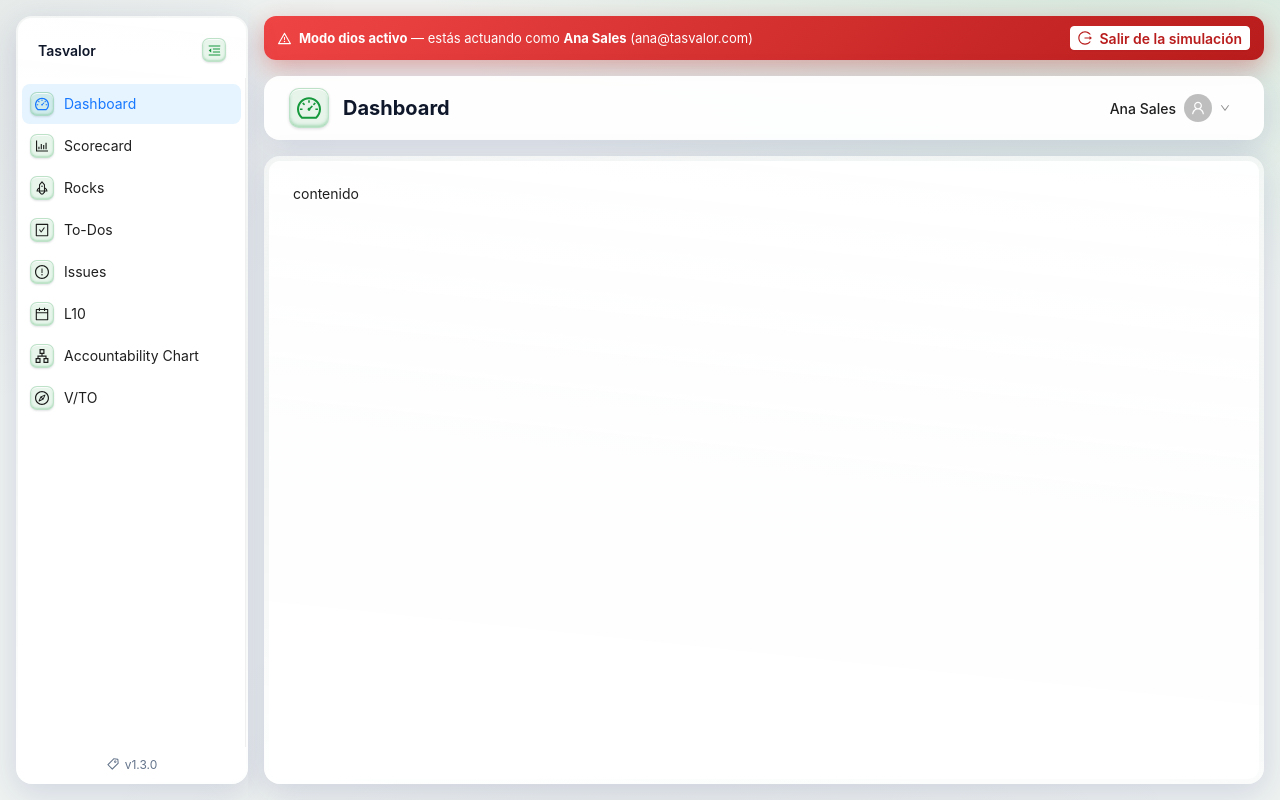
Test case: AppLayout › shows the red banner while impersonating and exits the simulation on click
Expected: the text "Modo dios activo" is shown, [299, 30, 407, 46]
Expected: the text "Ana Sales" next to "— estás actuando como" is shown, [563, 30, 626, 46]
Click the button "Salir de la simulación". click: (1160, 38)
box: [1070, 26, 1250, 50]
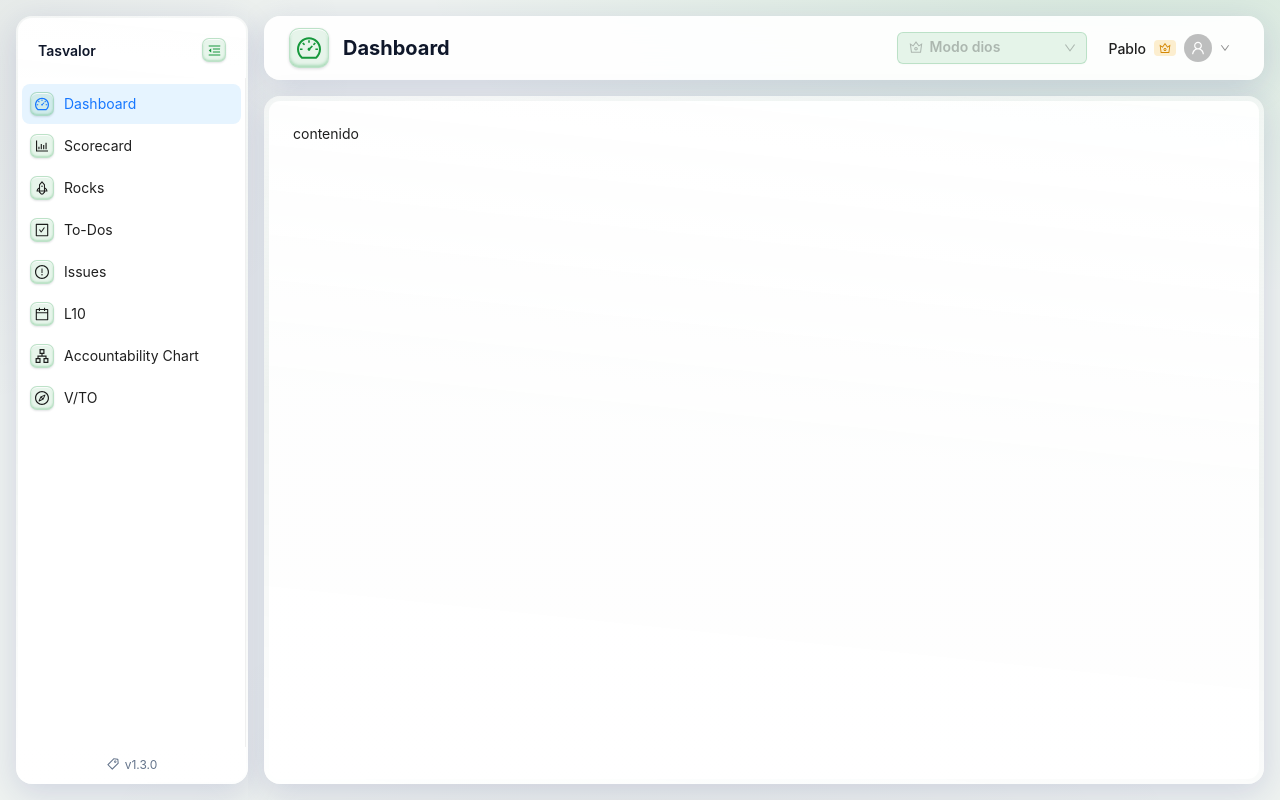
Expected: the text "Pablo" is shown, [1108, 40, 1146, 56]
Expected: the text "Modo dios activo" is gone
